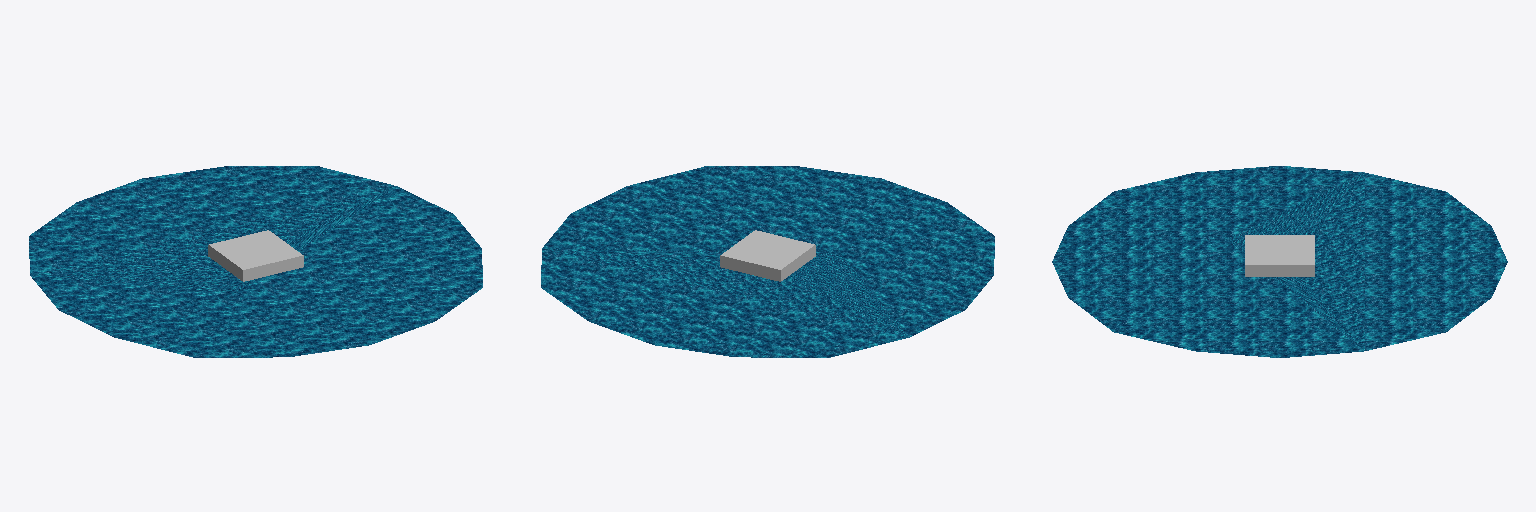
3 renders of one model, left to right at view 1: azimuth 30°, elevation 25°; view 2: azimuth 150°, elevation 25°; view 3: azimuth 270°, elevation 25°, orthographic.
Parts seen in each view (by area): view 1: VolcanicIsland, VolcanicIslandCollisionBox; view 2: VolcanicIsland, VolcanicIslandCollisionBox; view 3: VolcanicIsland, VolcanicIslandCollisionBox.
Part boxes in pixels (left/top/right/bottom): VolcanicIsland: left=29, top=166, right=482, bottom=357; VolcanicIslandCollisionBox: left=208, top=230, right=303, bottom=281; VolcanicIsland: left=541, top=166, right=994, bottom=357; VolcanicIslandCollisionBox: left=720, top=230, right=815, bottom=281; VolcanicIsland: left=1052, top=166, right=1507, bottom=357; VolcanicIslandCollisionBox: left=1245, top=235, right=1314, bottom=276.
Size of the model in its own units: 69445 by 2001 by 69445.
10 materials, 4 textured.